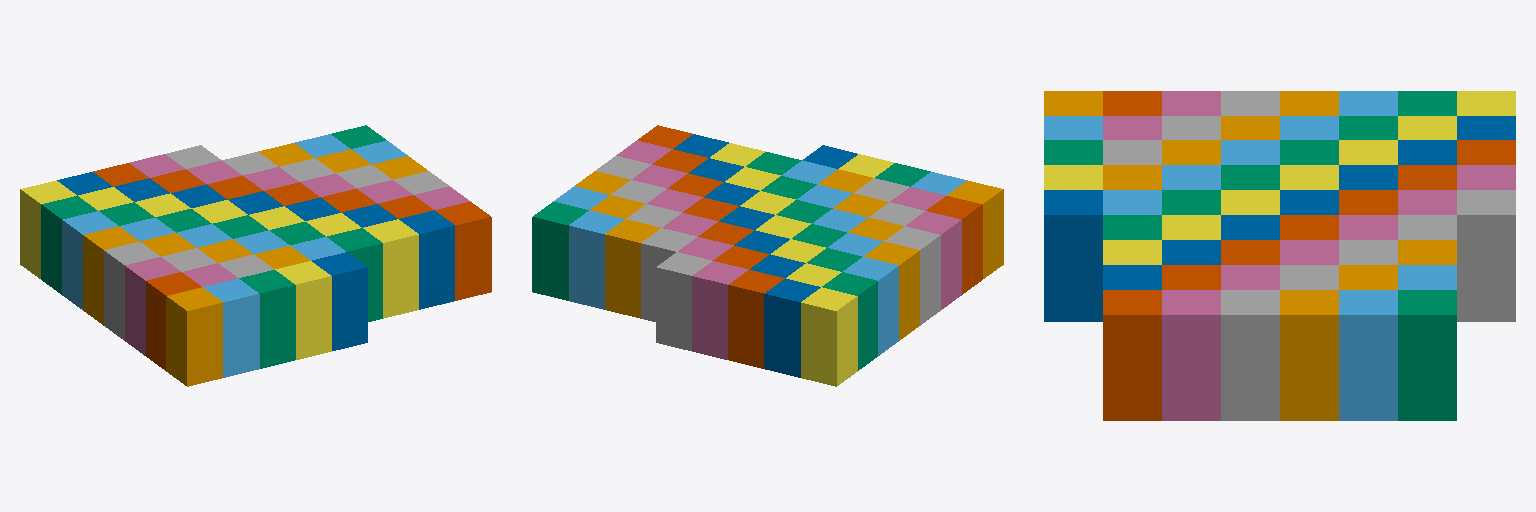
--- What the picture shows (computed from the rendered views, not written in the file) ---
3 views of the same robot in one strip: view 1: azimuth 30°, elevation 25°; view 2: azimuth 150°, elevation 25°; view 3: azimuth 270°, elevation 25° (orthographic).
Robot: snack — 64 links, 63 joints (63 fixed); root link box0; default pose: every joint at zero.
Links seen in each view (by area): view 1: box0, box13, box1, box3, box4, box12, box2, box11, box41, box14, box32, box50 (+28 smaller); view 2: box59, box58, box60, box57, box62, box63, box56, box61, box14, box23, box41, box0 (+28 smaller); view 3: box4, box63, box13, box22, box31, box40, box49, box58, box0, box2, box3, box5 (+28 smaller).
Boxes of the visible links, x1,y1,x2,y2 form: box0: [166, 287, 222, 386]; box13: [435, 201, 491, 300]; box1: [203, 278, 259, 377]; box3: [275, 261, 331, 359]; box4: [312, 252, 367, 350]; box12: [399, 210, 454, 309]; box2: [239, 270, 295, 368]; box11: [363, 219, 418, 318]; box41: [62, 211, 117, 309]; box14: [125, 257, 180, 355]; box32: [83, 226, 139, 325]; box50: [41, 196, 97, 294]; box59: [801, 287, 857, 386]; box58: [532, 201, 588, 300]; box60: [764, 278, 820, 377]; box57: [569, 210, 624, 309]; box62: [692, 261, 748, 359]; box63: [656, 252, 711, 350]; box56: [605, 219, 660, 318]; box61: [728, 270, 784, 368]; box14: [906, 211, 961, 309]; box23: [884, 226, 940, 325]; box41: [843, 257, 898, 355]; box0: [947, 180, 1003, 278]; box4: [1044, 190, 1102, 321]; box63: [1457, 190, 1515, 321]; box13: [1103, 290, 1161, 420]; box22: [1162, 290, 1220, 420]; box31: [1221, 290, 1279, 420]; box40: [1280, 290, 1338, 420]; box49: [1339, 290, 1397, 420]; box58: [1398, 290, 1456, 420]; box0: [1044, 91, 1102, 115]; box2: [1044, 140, 1102, 164]; box3: [1044, 165, 1102, 189]; box5: [1103, 91, 1161, 115].
Bounding box of the posed robot: 9 × 8 × 2 m (x, y, z).
Geometry: primitives only (box / cylinder / sphere), no mesh files.

robot.urdf — snack:
<robot name = "snack">
	<link name = "box0">
		<visual>
			<origin xyz="0.0 0.0 0.0"/>
			<geometry>
				<box size = "1 1 2"/>
			</geometry>
		</visual>
		<collision>
			<origin xyz="0.0 0.0 0.0"/>
			<geometry>
				<box size = "1 1 2"/>
			</geometry>
		</collision>
		<contact>
			<lateral_friction value = "0.3"/>
		</contact>
		<inertial>
			<mass value = "0.0046875"/>
			<inertia ixx="0.001953125" ixy="0.0" ixz="0.0" iyy="0.001953125" iyz="0.0" izz="0.0007812499999999999"/>
			<origin xyz="0.0 0.0 0.0"/>
		</inertial>
	</link>
	<link name = "box1">
		<visual>
			<origin xyz="1.0 0.0 0.0"/>
			<geometry>
				<box size = "1 1 2"/>
			</geometry>
		</visual>
		<collision>
			<origin xyz="1.0 0.0 0.0"/>
			<geometry>
				<box size = "1 1 2"/>
			</geometry>
		</collision>
		<contact>
			<lateral_friction value = "0.3"/>
		</contact>
		<inertial>
			<mass value = "0.0046875"/>
			<inertia ixx="0.001953125" ixy="0.0" ixz="0.0" iyy="0.001953125" iyz="0.0" izz="0.0007812499999999999"/>
			<origin xyz="1.0 0.0 0.0"/>
		</inertial>
	</link>
	<joint name = "joint1" type = "fixed">
		<parent link = "box0"/>
		<child link = "box1"/>
	</joint>
	<link name = "box2">
		<visual>
			<origin xyz="2.0 0.0 0.0"/>
			<geometry>
				<box size = "1 1 2"/>
			</geometry>
		</visual>
		<collision>
			<origin xyz="2.0 0.0 0.0"/>
			<geometry>
				<box size = "1 1 2"/>
			</geometry>
		</collision>
		<contact>
			<lateral_friction value = "0.3"/>
		</contact>
		<inertial>
			<mass value = "0.0046875"/>
			<inertia ixx="0.001953125" ixy="0.0" ixz="0.0" iyy="0.001953125" iyz="0.0" izz="0.0007812499999999999"/>
			<origin xyz="2.0 0.0 0.0"/>
		</inertial>
	</link>
	<joint name = "joint2" type = "fixed">
		<parent link = "box0"/>
		<child link = "box2"/>
	</joint>
	<link name = "box3">
		<visual>
			<origin xyz="3.0 0.0 0.0"/>
			<geometry>
				<box size = "1 1 2"/>
			</geometry>
		</visual>
		<collision>
			<origin xyz="3.0 0.0 0.0"/>
			<geometry>
				<box size = "1 1 2"/>
			</geometry>
		</collision>
		<contact>
			<lateral_friction value = "0.3"/>
		</contact>
		<inertial>
			<mass value = "0.0046875"/>
			<inertia ixx="0.001953125" ixy="0.0" ixz="0.0" iyy="0.001953125" iyz="0.0" izz="0.0007812499999999999"/>
			<origin xyz="3.0 0.0 0.0"/>
		</inertial>
	</link>
	<joint name = "joint3" type = "fixed">
		<parent link = "box0"/>
		<child link = "box3"/>
	</joint>
	<link name = "box4">
		<visual>
			<origin xyz="4.0 0.0 0.0"/>
			<geometry>
				<box size = "1 1 2"/>
			</geometry>
		</visual>
		<collision>
			<origin xyz="4.0 0.0 0.0"/>
			<geometry>
				<box size = "1 1 2"/>
			</geometry>
		</collision>
		<contact>
			<lateral_friction value = "0.3"/>
		</contact>
		<inertial>
			<mass value = "0.0046875"/>
			<inertia ixx="0.001953125" ixy="0.0" ixz="0.0" iyy="0.001953125" iyz="0.0" izz="0.0007812499999999999"/>
			<origin xyz="4.0 0.0 0.0"/>
		</inertial>
	</link>
	<joint name = "joint4" type = "fixed">
		<parent link = "box0"/>
		<child link = "box4"/>
	</joint>
	<link name = "box5">
		<visual>
			<origin xyz="0.0 1.0 0.0"/>
			<geometry>
				<box size = "1 1 2"/>
			</geometry>
		</visual>
		<collision>
			<origin xyz="0.0 1.0 0.0"/>
			<geometry>
				<box size = "1 1 2"/>
			</geometry>
		</collision>
		<contact>
			<lateral_friction value = "0.3"/>
		</contact>
		<inertial>
			<mass value = "0.0046875"/>
			<inertia ixx="0.001953125" ixy="0.0" ixz="0.0" iyy="0.001953125" iyz="0.0" izz="0.0007812499999999999"/>
			<origin xyz="0.0 1.0 0.0"/>
		</inertial>
	</link>
	<joint name = "joint5" type = "fixed">
		<parent link = "box0"/>
		<child link = "box5"/>
	</joint>
	<link name = "box6">
		<visual>
			<origin xyz="1.0 1.0 0.0"/>
			<geometry>
				<box size = "1 1 2"/>
			</geometry>
		</visual>
		<collision>
			<origin xyz="1.0 1.0 0.0"/>
			<geometry>
				<box size = "1 1 2"/>
			</geometry>
		</collision>
		<contact>
			<lateral_friction value = "0.3"/>
		</contact>
		<inertial>
			<mass value = "0.0046875"/>
			<inertia ixx="0.001953125" ixy="0.0" ixz="0.0" iyy="0.001953125" iyz="0.0" izz="0.0007812499999999999"/>
			<origin xyz="1.0 1.0 0.0"/>
		</inertial>
	</link>
	<joint name = "joint6" type = "fixed">
		<parent link = "box0"/>
		<child link = "box6"/>
	</joint>
	<link name = "box7">
		<visual>
			<origin xyz="2.0 1.0 0.0"/>
			<geometry>
				<box size = "1 1 2"/>
			</geometry>
		</visual>
		<collision>
			<origin xyz="2.0 1.0 0.0"/>
			<geometry>
				<box size = "1 1 2"/>
			</geometry>
		</collision>
		<contact>
			<lateral_friction value = "0.3"/>
		</contact>
		<inertial>
			<mass value = "0.0046875"/>
			<inertia ixx="0.001953125" ixy="0.0" ixz="0.0" iyy="0.001953125" iyz="0.0" izz="0.0007812499999999999"/>
			<origin xyz="2.0 1.0 0.0"/>
		</inertial>
	</link>
	<joint name = "joint7" type = "fixed">
		<parent link = "box0"/>
		<child link = "box7"/>
	</joint>
	<link name = "box8">
		<visual>
			<origin xyz="3.0 1.0 0.0"/>
			<geometry>
				<box size = "1 1 2"/>
			</geometry>
		</visual>
		<collision>
			<origin xyz="3.0 1.0 0.0"/>
			<geometry>
				<box size = "1 1 2"/>
			</geometry>
		</collision>
		<contact>
			<lateral_friction value = "0.3"/>
		</contact>
		<inertial>
			<mass value = "0.0046875"/>
			<inertia ixx="0.001953125" ixy="0.0" ixz="0.0" iyy="0.001953125" iyz="0.0" izz="0.0007812499999999999"/>
			<origin xyz="3.0 1.0 0.0"/>
		</inertial>
	</link>
	<joint name = "joint8" type = "fixed">
		<parent link = "box0"/>
		<child link = "box8"/>
	</joint>
	<link name = "box9">
		<visual>
			<origin xyz="4.0 1.0 0.0"/>
			<geometry>
				<box size = "1 1 2"/>
			</geometry>
		</visual>
		<collision>
			<origin xyz="4.0 1.0 0.0"/>
			<geometry>
				<box size = "1 1 2"/>
			</geometry>
		</collision>
		<contact>
			<lateral_friction value = "0.3"/>
		</contact>
		<inertial>
			<mass value = "0.0046875"/>
			<inertia ixx="0.001953125" ixy="0.0" ixz="0.0" iyy="0.001953125" iyz="0.0" izz="0.0007812499999999999"/>
			<origin xyz="4.0 1.0 0.0"/>
		</inertial>
	</link>
	<joint name = "joint9" type = "fixed">
		<parent link = "box0"/>
		<child link = "box9"/>
	</joint>
	<link name = "box10">
		<visual>
			<origin xyz="5.0 1.0 0.0"/>
			<geometry>
				<box size = "1 1 2"/>
			</geometry>
		</visual>
		<collision>
			<origin xyz="5.0 1.0 0.0"/>
			<geometry>
				<box size = "1 1 2"/>
			</geometry>
		</collision>
		<contact>
			<lateral_friction value = "0.3"/>
		</contact>
		<inertial>
			<mass value = "0.0046875"/>
			<inertia ixx="0.001953125" ixy="0.0" ixz="0.0" iyy="0.001953125" iyz="0.0" izz="0.0007812499999999999"/>
			<origin xyz="5.0 1.0 0.0"/>
		</inertial>
	</link>
	<joint name = "joint10" type = "fixed">
		<parent link = "box0"/>
		<child link = "box10"/>
	</joint>
	<link name = "box11">
		<visual>
			<origin xyz="6.0 1.0 0.0"/>
			<geometry>
				<box size = "1 1 2"/>
			</geometry>
		</visual>
		<collision>
			<origin xyz="6.0 1.0 0.0"/>
			<geometry>
				<box size = "1 1 2"/>
			</geometry>
		</collision>
		<contact>
			<lateral_friction value = "0.3"/>
		</contact>
		<inertial>
			<mass value = "0.0046875"/>
			<inertia ixx="0.001953125" ixy="0.0" ixz="0.0" iyy="0.001953125" iyz="0.0" izz="0.0007812499999999999"/>
			<origin xyz="6.0 1.0 0.0"/>
		</inertial>
	</link>
	<joint name = "joint11" type = "fixed">
		<parent link = "box0"/>
		<child link = "box11"/>
	</joint>
	<link name = "box12">
		<visual>
			<origin xyz="7.0 1.0 0.0"/>
			<geometry>
				<box size = "1 1 2"/>
			</geometry>
		</visual>
		<collision>
			<origin xyz="7.0 1.0 0.0"/>
			<geometry>
				<box size = "1 1 2"/>
			</geometry>
		</collision>
		<contact>
			<lateral_friction value = "0.3"/>
		</contact>
		<inertial>
			<mass value = "0.0046875"/>
			<inertia ixx="0.001953125" ixy="0.0" ixz="0.0" iyy="0.001953125" iyz="0.0" izz="0.0007812499999999999"/>
			<origin xyz="7.0 1.0 0.0"/>
		</inertial>
	</link>
	<joint name = "joint12" type = "fixed">
		<parent link = "box0"/>
		<child link = "box12"/>
	</joint>
	<link name = "box13">
		<visual>
			<origin xyz="8.0 1.0 0.0"/>
			<geometry>
				<box size = "1 1 2"/>
			</geometry>
		</visual>
		<collision>
			<origin xyz="8.0 1.0 0.0"/>
			<geometry>
				<box size = "1 1 2"/>
			</geometry>
		</collision>
		<contact>
			<lateral_friction value = "0.3"/>
		</contact>
		<inertial>
			<mass value = "0.0046875"/>
			<inertia ixx="0.001953125" ixy="0.0" ixz="0.0" iyy="0.001953125" iyz="0.0" izz="0.0007812499999999999"/>
			<origin xyz="8.0 1.0 0.0"/>
		</inertial>
	</link>
	<joint name = "joint13" type = "fixed">
		<parent link = "box0"/>
		<child link = "box13"/>
	</joint>
	<link name = "box14">
		<visual>
			<origin xyz="0.0 2.0 0.0"/>
			<geometry>
				<box size = "1 1 2"/>
			</geometry>
		</visual>
		<collision>
			<origin xyz="0.0 2.0 0.0"/>
			<geometry>
				<box size = "1 1 2"/>
			</geometry>
		</collision>
		<contact>
			<lateral_friction value = "0.3"/>
		</contact>
		<inertial>
			<mass value = "0.0046875"/>
			<inertia ixx="0.001953125" ixy="0.0" ixz="0.0" iyy="0.001953125" iyz="0.0" izz="0.0007812499999999999"/>
			<origin xyz="0.0 2.0 0.0"/>
		</inertial>
	</link>
	<joint name = "joint14" type = "fixed">
		<parent link = "box0"/>
		<child link = "box14"/>
	</joint>
	<link name = "box15">
		<visual>
			<origin xyz="1.0 2.0 0.0"/>
			<geometry>
				<box size = "1 1 2"/>
			</geometry>
		</visual>
		<collision>
			<origin xyz="1.0 2.0 0.0"/>
			<geometry>
				<box size = "1 1 2"/>
			</geometry>
		</collision>
		<contact>
			<lateral_friction value = "0.3"/>
		</contact>
		<inertial>
			<mass value = "0.0046875"/>
			<inertia ixx="0.001953125" ixy="0.0" ixz="0.0" iyy="0.001953125" iyz="0.0" izz="0.0007812499999999999"/>
			<origin xyz="1.0 2.0 0.0"/>
		</inertial>
	</link>
	<joint name = "joint15" type = "fixed">
		<parent link = "box0"/>
		<child link = "box15"/>
	</joint>
	<link name = "box16">
		<visual>
			<origin xyz="2.0 2.0 0.0"/>
			<geometry>
				<box size = "1 1 2"/>
			</geometry>
		</visual>
		<collision>
			<origin xyz="2.0 2.0 0.0"/>
			<geometry>
				<box size = "1 1 2"/>
			</geometry>
		</collision>
		<contact>
			<lateral_friction value = "0.3"/>
		</contact>
		<inertial>
			<mass value = "0.0046875"/>
			<inertia ixx="0.001953125" ixy="0.0" ixz="0.0" iyy="0.001953125" iyz="0.0" izz="0.0007812499999999999"/>
			<origin xyz="2.0 2.0 0.0"/>
		</inertial>
	</link>
	<joint name = "joint16" type = "fixed">
		<parent link = "box0"/>
		<child link = "box16"/>
	</joint>
	<link name = "box17">
		<visual>
			<origin xyz="3.0 2.0 0.0"/>
			<geometry>
				<box size = "1 1 2"/>
			</geometry>
		</visual>
		<collision>
			<origin xyz="3.0 2.0 0.0"/>
			<geometry>
				<box size = "1 1 2"/>
			</geometry>
		</collision>
		<contact>
			<lateral_friction value = "0.3"/>
		</contact>
		<inertial>
			<mass value = "0.0046875"/>
			<inertia ixx="0.001953125" ixy="0.0" ixz="0.0" iyy="0.001953125" iyz="0.0" izz="0.0007812499999999999"/>
			<origin xyz="3.0 2.0 0.0"/>
		</inertial>
	</link>
	<joint name = "joint17" type = "fixed">
		<parent link = "box0"/>
		<child link = "box17"/>
	</joint>
	<link name = "box18">
		<visual>
			<origin xyz="4.0 2.0 0.0"/>
			<geometry>
				<box size = "1 1 2"/>
			</geometry>
		</visual>
		<collision>
			<origin xyz="4.0 2.0 0.0"/>
			<geometry>
				<box size = "1 1 2"/>
			</geometry>
		</collision>
		<contact>
			<lateral_friction value = "0.3"/>
		</contact>
		<inertial>
			<mass value = "0.0046875"/>
			<inertia ixx="0.001953125" ixy="0.0" ixz="0.0" iyy="0.001953125" iyz="0.0" izz="0.0007812499999999999"/>
			<origin xyz="4.0 2.0 0.0"/>
		</inertial>
	</link>
	<joint name = "joint18" type = "fixed">
		<parent link = "box0"/>
		<child link = "box18"/>
	</joint>
	<link name = "box19">
		<visual>
			<origin xyz="5.0 2.0 0.0"/>
			<geometry>
				<box size = "1 1 2"/>
			</geometry>
		</visual>
		<collision>
			<origin xyz="5.0 2.0 0.0"/>
			<geometry>
				<box size = "1 1 2"/>
			</geometry>
		</collision>
		<contact>
			<lateral_friction value = "0.3"/>
		</contact>
		<inertial>
			<mass value = "0.0046875"/>
			<inertia ixx="0.001953125" ixy="0.0" ixz="0.0" iyy="0.001953125" iyz="0.0" izz="0.0007812499999999999"/>
			<origin xyz="5.0 2.0 0.0"/>
		</inertial>
	</link>
	<joint name = "joint19" type = "fixed">
		<parent link = "box0"/>
		<child link = "box19"/>
	</joint>
	<link name = "box20">
		<visual>
			<origin xyz="6.0 2.0 0.0"/>
			<geometry>
				<box size = "1 1 2"/>
			</geometry>
		</visual>
		<collision>
			<origin xyz="6.0 2.0 0.0"/>
			<geometry>
				<box size = "1 1 2"/>
			</geometry>
		</collision>
		<contact>
			<lateral_friction value = "0.3"/>
		</contact>
		<inertial>
			<mass value = "0.0046875"/>
			<inertia ixx="0.001953125" ixy="0.0" ixz="0.0" iyy="0.001953125" iyz="0.0" izz="0.0007812499999999999"/>
			<origin xyz="6.0 2.0 0.0"/>
		</inertial>
	</link>
	<joint name = "joint20" type = "fixed">
		<parent link = "box0"/>
		<child link = "box20"/>
	</joint>
	<link name = "box21">
		<visual>
			<origin xyz="7.0 2.0 0.0"/>
			<geometry>
				<box size = "1 1 2"/>
			</geometry>
		</visual>
		<collision>
			<origin xyz="7.0 2.0 0.0"/>
			<geometry>
				<box size = "1 1 2"/>
			</geometry>
		</collision>
		<contact>
			<lateral_friction value = "0.3"/>
		</contact>
		<inertial>
			<mass value = "0.0046875"/>
			<inertia ixx="0.001953125" ixy="0.0" ixz="0.0" iyy="0.001953125" iyz="0.0" izz="0.0007812499999999999"/>
			<origin xyz="7.0 2.0 0.0"/>
		</inertial>
	</link>
	<joint name = "joint21" type = "fixed">
		<parent link = "box0"/>
		<child link = "box21"/>
	</joint>
	<link name = "box22">
		<visual>
			<origin xyz="8.0 2.0 0.0"/>
			<geometry>
				<box size = "1 1 2"/>
			</geometry>
		</visual>
		<collision>
			<origin xyz="8.0 2.0 0.0"/>
			<geometry>
				<box size = "1 1 2"/>
			</geometry>
		</collision>
		<contact>
			<lateral_friction value = "0.3"/>
		</contact>
		<inertial>
			<mass value = "0.0046875"/>
			<inertia ixx="0.001953125" ixy="0.0" ixz="0.0" iyy="0.001953125" iyz="0.0" izz="0.0007812499999999999"/>
			<origin xyz="8.0 2.0 0.0"/>
		</inertial>
	</link>
	<joint name = "joint22" type = "fixed">
		<parent link = "box0"/>
		<child link = "box22"/>
	</joint>
	<link name = "box23">
		<visual>
			<origin xyz="0.0 3.0 0.0"/>
			<geometry>
				<box size = "1 1 2"/>
			</geometry>
		</visual>
		<collision>
			<origin xyz="0.0 3.0 0.0"/>
			<geometry>
				<box size = "1 1 2"/>
			</geometry>
		</collision>
		<contact>
			<lateral_friction value = "0.3"/>
		</contact>
		<inertial>
			<mass value = "0.0046875"/>
			<inertia ixx="0.001953125" ixy="0.0" ixz="0.0" iyy="0.001953125" iyz="0.0" izz="0.0007812499999999999"/>
			<origin xyz="0.0 3.0 0.0"/>
		</inertial>
	</link>
	<joint name = "joint23" type = "fixed">
		<parent link = "box0"/>
		<child link = "box23"/>
	</joint>
	<link name = "box24">
		<visual>
			<origin xyz="1.0 3.0 0.0"/>
			<geometry>
				<box size = "1 1 2"/>
			</geometry>
		</visual>
		<collision>
			<origin xyz="1.0 3.0 0.0"/>
			<geometry>
				<box size = "1 1 2"/>
			</geometry>
		</collision>
		<contact>
			<lateral_friction value = "0.3"/>
		</contact>
		<inertial>
			<mass value = "0.0046875"/>
			<inertia ixx="0.001953125" ixy="0.0" ixz="0.0" iyy="0.001953125" iyz="0.0" izz="0.0007812499999999999"/>
			<origin xyz="1.0 3.0 0.0"/>
		</inertial>
	</link>
	<joint name = "joint24" type = "fixed">
		<parent link = "box0"/>
		<child link = "box24"/>
	</joint>
	<link name = "box25">
		<visual>
			<origin xyz="2.0 3.0 0.0"/>
			<geometry>
				<box size = "1 1 2"/>
			</geometry>
		</visual>
		<collision>
			<origin xyz="2.0 3.0 0.0"/>
			<geometry>
				<box size = "1 1 2"/>
			</geometry>
		</collision>
		<contact>
			<lateral_friction value = "0.3"/>
		</contact>
		<inertial>
			<mass value = "0.0046875"/>
			<inertia ixx="0.001953125" ixy="0.0" ixz="0.0" iyy="0.001953125" iyz="0.0" izz="0.0007812499999999999"/>
			<origin xyz="2.0 3.0 0.0"/>
		</inertial>
	</link>
	<joint name = "joint25" type = "fixed">
		<parent link = "box0"/>
		<child link = "box25"/>
	</joint>
	<link name = "box26">
		<visual>
			<origin xyz="3.0 3.0 0.0"/>
			<geometry>
				<box size = "1 1 2"/>
			</geometry>
		</visual>
		<collision>
			<origin xyz="3.0 3.0 0.0"/>
			<geometry>
				<box size = "1 1 2"/>
			</geometry>
		</collision>
		<contact>
			<lateral_friction value = "0.3"/>
		</contact>
		<inertial>
			<mass value = "0.0046875"/>
			<inertia ixx="0.001953125" ixy="0.0" ixz="0.0" iyy="0.001953125" iyz="0.0" izz="0.0007812499999999999"/>
			<origin xyz="3.0 3.0 0.0"/>
		</inertial>
	</link>
	<joint name = "joint26" type = "fixed">
		<parent link = "box0"/>
		<child link = "box26"/>
	</joint>
	<link name = "box27">
		<visual>
			<origin xyz="4.0 3.0 0.0"/>
			<geometry>
				<box size = "1 1 2"/>
			</geometry>
		</visual>
		<collision>
			<origin xyz="4.0 3.0 0.0"/>
			<geometry>
				<box size = "1 1 2"/>
			</geometry>
		</collision>
		<contact>
			<lateral_friction value = "0.3"/>
		</contact>
		<inertial>
			<mass value = "0.0046875"/>
			<inertia ixx="0.001953125" ixy="0.0" ixz="0.0" iyy="0.001953125" iyz="0.0" izz="0.0007812499999999999"/>
			<origin xyz="4.0 3.0 0.0"/>
		</inertial>
	</link>
	<joint name = "joint27" type = "fixed">
		<parent link = "box0"/>
		<child link = "box27"/>
	</joint>
	<link name = "box28">
		<visual>
			<origin xyz="5.0 3.0 0.0"/>
			<geometry>
				<box size = "1 1 2"/>
			</geometry>
		</visual>
		<collision>
			<origin xyz="5.0 3.0 0.0"/>
			<geometry>
				<box size = "1 1 2"/>
			</geometry>
		</collision>
		<contact>
			<lateral_friction value = "0.3"/>
		</contact>
		<inertial>
			<mass value = "0.0046875"/>
			<inertia ixx="0.001953125" ixy="0.0" ixz="0.0" iyy="0.001953125" iyz="0.0" izz="0.0007812499999999999"/>
			<origin xyz="5.0 3.0 0.0"/>
		</inertial>
	</link>
	<joint name = "joint28" type = "fixed">
		<parent link = "box0"/>
		<child link = "box28"/>
	</joint>
	<link name = "box29">
		<visual>
			<origin xyz="6.0 3.0 0.0"/>
			<geometry>
				<box size = "1 1 2"/>
			</geometry>
		</visual>
		<collision>
			<origin xyz="6.0 3.0 0.0"/>
			<geometry>
				<box size = "1 1 2"/>
			</geometry>
		</collision>
		<contact>
			<lateral_friction value = "0.3"/>
		</contact>
		<inertial>
			<mass value = "0.0046875"/>
			<inertia ixx="0.001953125" ixy="0.0" ixz="0.0" iyy="0.001953125" iyz="0.0" izz="0.0007812499999999999"/>
			<origin xyz="6.0 3.0 0.0"/>
		</inertial>
	</link>
	<joint name = "joint29" type = "fixed">
		<parent link = "box0"/>
		<child link = "box29"/>
	</joint>
	<link name = "box30">
		<visual>
			<origin xyz="7.0 3.0 0.0"/>
			<geometry>
				<box size = "1 1 2"/>
			</geometry>
		</visual>
		<collision>
			<origin xyz="7.0 3.0 0.0"/>
			<geometry>
				<box size = "1 1 2"/>
			</geometry>
		</collision>
		<contact>
			<lateral_friction value = "0.3"/>
		</contact>
		<inertial>
			<mass value = "0.0046875"/>
			<inertia ixx="0.001953125" ixy="0.0" ixz="0.0" iyy="0.001953125" iyz="0.0" izz="0.0007812499999999999"/>
			<origin xyz="7.0 3.0 0.0"/>
		</inertial>
	</link>
	<joint name = "joint30" type = "fixed">
		<parent link = "box0"/>
		<child link = "box30"/>
	</joint>
	<link name = "box31">
		<visual>
			<origin xyz="8.0 3.0 0.0"/>
			<geometry>
				<box size = "1 1 2"/>
			</geometry>
		</visual>
		<collision>
			<origin xyz="8.0 3.0 0.0"/>
			<geometry>
				<box size = "1 1 2"/>
			</geometry>
		</collision>
		<contact>
			<lateral_friction value = "0.3"/>
		</contact>
		<inertial>
			<mass value = "0.0046875"/>
			<inertia ixx="0.001953125" ixy="0.0" ixz="0.0" iyy="0.001953125" iyz="0.0" izz="0.0007812499999999999"/>
			<origin xyz="8.0 3.0 0.0"/>
		</inertial>
	</link>
	<joint name = "joint31" type = "fixed">
		<parent link = "box0"/>
		<child link = "box31"/>
	</joint>
	<link name = "box32">
		<visual>
			<origin xyz="0.0 4.0 0.0"/>
			<geometry>
				<box size = "1 1 2"/>
			</geometry>
		</visual>
		<collision>
			<origin xyz="0.0 4.0 0.0"/>
			<geometry>
				<box size = "1 1 2"/>
			</geometry>
		</collision>
		<contact>
			<lateral_friction value = "0.3"/>
		</contact>
		<inertial>
			<mass value = "0.0046875"/>
			<inertia ixx="0.001953125" ixy="0.0" ixz="0.0" iyy="0.001953125" iyz="0.0" izz="0.0007812499999999999"/>
			<origin xyz="0.0 4.0 0.0"/>
		</inertial>
	</link>
	<joint name = "joint32" type = "fixed">
		<parent link = "box0"/>
		<child link = "box32"/>
	</joint>
	<link name = "box33">
		<visual>
			<origin xyz="1.0 4.0 0.0"/>
			<geometry>
				<box size = "1 1 2"/>
			</geometry>
		</visual>
		<collision>
			<origin xyz="1.0 4.0 0.0"/>
			<geometry>
				<box size = "1 1 2"/>
			</geometry>
		</collision>
		<contact>
			<lateral_friction value = "0.3"/>
		</contact>
		<inertial>
			<mass value = "0.0046875"/>
			<inertia ixx="0.001953125" ixy="0.0" ixz="0.0" iyy="0.001953125" iyz="0.0" izz="0.0007812499999999999"/>
			<origin xyz="1.0 4.0 0.0"/>
		</inertial>
	</link>
	<joint name = "joint33" type = "fixed">
		<parent link = "box0"/>
		<child link = "box33"/>
	</joint>
	<link name = "box34">
		<visual>
			<origin xyz="2.0 4.0 0.0"/>
			<geometry>
				<box size = "1 1 2"/>
			</geometry>
		</visual>
		<collision>
			<origin xyz="2.0 4.0 0.0"/>
			<geometry>
				<box size = "1 1 2"/>
			</geometry>
		</collision>
		<contact>
			<lateral_friction value = "0.3"/>
		</contact>
		<inertial>
			<mass value = "0.0046875"/>
			<inertia ixx="0.001953125" ixy="0.0" ixz="0.0" iyy="0.001953125" iyz="0.0" izz="0.0007812499999999999"/>
			<origin xyz="2.0 4.0 0.0"/>
		</inertial>
	</link>
	<joint name = "joint34" type = "fixed">
		<parent link = "box0"/>
		<child link = "box34"/>
	</joint>
	<link name = "box35">
		<visual>
			<origin xyz="3.0 4.0 0.0"/>
			<geometry>
				<box size = "1 1 2"/>
			</geometry>
		</visual>
		<collision>
			<origin xyz="3.0 4.0 0.0"/>
			<geometry>
				<box size = "1 1 2"/>
			</geometry>
		</collision>
		<contact>
			<lateral_friction value = "0.3"/>
		</contact>
		<inertial>
			<mass value = "0.0046875"/>
			<inertia ixx="0.001953125" ixy="0.0" ixz="0.0" iyy="0.001953125" iyz="0.0" izz="0.0007812499999999999"/>
			<origin xyz="3.0 4.0 0.0"/>
		</inertial>
	</link>
	<joint name = "joint35" type = "fixed">
		<parent link = "box0"/>
		<child link = "box35"/>
	</joint>
	<link name = "box36">
		<visual>
			<origin xyz="4.0 4.0 0.0"/>
			<geometry>
				<box size = "1 1 2"/>
			</geometry>
		</visual>
		<collision>
			<origin xyz="4.0 4.0 0.0"/>
			<geometry>
				<box size = "1 1 2"/>
			</geometry>
		</collision>
		<contact>
			<lateral_friction value = "0.3"/>
		</contact>
		<inertial>
			<mass value = "0.0046875"/>
			<inertia ixx="0.001953125" ixy="0.0" ixz="0.0" iyy="0.001953125" iyz="0.0" izz="0.0007812499999999999"/>
			<origin xyz="4.0 4.0 0.0"/>
		</inertial>
	</link>
	<joint name = "joint36" type = "fixed">
		<parent link = "box0"/>
		<child link = "box36"/>
	</joint>
	<link name = "box37">
		<visual>
			<origin xyz="5.0 4.0 0.0"/>
			<geometry>
				<box size = "1 1 2"/>
			</geometry>
		</visual>
		<collision>
			<origin xyz="5.0 4.0 0.0"/>
			<geometry>
				<box size = "1 1 2"/>
			</geometry>
		</collision>
		<contact>
			<lateral_friction value = "0.3"/>
		</contact>
		<inertial>
			<mass value = "0.0046875"/>
			<inertia ixx="0.001953125" ixy="0.0" ixz="0.0" iyy="0.001953125" iyz="0.0" izz="0.0007812499999999999"/>
			<origin xyz="5.0 4.0 0.0"/>
		</inertial>
	</link>
	<joint name = "joint37" type = "fixed">
		<parent link = "box0"/>
		<child link = "box37"/>
	</joint>
	<link name = "box38">
		<visual>
			<origin xyz="6.0 4.0 0.0"/>
			<geometry>
				<box size = "1 1 2"/>
			</geometry>
		</visual>
		<collision>
			<origin xyz="6.0 4.0 0.0"/>
			<geometry>
				<box size = "1 1 2"/>
			</geometry>
		</collision>
		<contact>
			<lateral_friction value = "0.3"/>
		</contact>
		<inertial>
			<mass value = "0.0046875"/>
			<inertia ixx="0.001953125" ixy="0.0" ixz="0.0" iyy="0.001953125" iyz="0.0" izz="0.0007812499999999999"/>
			<origin xyz="6.0 4.0 0.0"/>
		</inertial>
	</link>
	<joint name = "joint38" type = "fixed">
		<parent link = "box0"/>
		<child link = "box38"/>
	</joint>
	<link name = "box39">
		<visual>
			<origin xyz="7.0 4.0 0.0"/>
			<geometry>
				<box size = "1 1 2"/>
			</geometry>
		</visual>
		<collision>
			<origin xyz="7.0 4.0 0.0"/>
			<geometry>
				<box size = "1 1 2"/>
			</geometry>
		</collision>
		<contact>
			<lateral_friction value = "0.3"/>
		</contact>
		<inertial>
			<mass value = "0.0046875"/>
			<inertia ixx="0.001953125" ixy="0.0" ixz="0.0" iyy="0.001953125" iyz="0.0" izz="0.0007812499999999999"/>
			<origin xyz="7.0 4.0 0.0"/>
		</inertial>
	</link>
	<joint name = "joint39" type = "fixed">
		<parent link = "box0"/>
		<child link = "box39"/>
	</joint>
	<link name = "box40">
		<visual>
			<origin xyz="8.0 4.0 0.0"/>
			<geometry>
				<box size = "1 1 2"/>
			</geometry>
		</visual>
		<collision>
			<origin xyz="8.0 4.0 0.0"/>
			<geometry>
				<box size = "1 1 2"/>
			</geometry>
		</collision>
		<contact>
			<lateral_friction value = "0.3"/>
		</contact>
		<inertial>
			<mass value = "0.0046875"/>
			<inertia ixx="0.001953125" ixy="0.0" ixz="0.0" iyy="0.001953125" iyz="0.0" izz="0.0007812499999999999"/>
			<origin xyz="8.0 4.0 0.0"/>
		</inertial>
	</link>
	<joint name = "joint40" type = "fixed">
		<parent link = "box0"/>
		<child link = "box40"/>
	</joint>
	<link name = "box41">
		<visual>
			<origin xyz="0.0 5.0 0.0"/>
			<geometry>
				<box size = "1 1 2"/>
			</geometry>
		</visual>
		<collision>
			<origin xyz="0.0 5.0 0.0"/>
			<geometry>
				<box size = "1 1 2"/>
			</geometry>
		</collision>
		<contact>
			<lateral_friction value = "0.3"/>
		</contact>
		<inertial>
			<mass value = "0.0046875"/>
			<inertia ixx="0.001953125" ixy="0.0" ixz="0.0" iyy="0.001953125" iyz="0.0" izz="0.0007812499999999999"/>
			<origin xyz="0.0 5.0 0.0"/>
		</inertial>
	</link>
	<joint name = "joint41" type = "fixed">
		<parent link = "box0"/>
		<child link = "box41"/>
	</joint>
	<link name = "box42">
		<visual>
			<origin xyz="1.0 5.0 0.0"/>
			<geometry>
				<box size = "1 1 2"/>
			</geometry>
		</visual>
		<collision>
			<origin xyz="1.0 5.0 0.0"/>
			<geometry>
				<box size = "1 1 2"/>
			</geometry>
		</collision>
		<contact>
			<lateral_friction value = "0.3"/>
		</contact>
		<inertial>
			<mass value = "0.0046875"/>
			<inertia ixx="0.001953125" ixy="0.0" ixz="0.0" iyy="0.001953125" iyz="0.0" izz="0.0007812499999999999"/>
			<origin xyz="1.0 5.0 0.0"/>
		</inertial>
	</link>
	<joint name = "joint42" type = "fixed">
		<parent link = "box0"/>
		<child link = "box42"/>
	</joint>
	<link name = "box43">
		<visual>
			<origin xyz="2.0 5.0 0.0"/>
			<geometry>
				<box size = "1 1 2"/>
			</geometry>
		</visual>
		<collision>
			<origin xyz="2.0 5.0 0.0"/>
			<geometry>
				<box size = "1 1 2"/>
			</geometry>
		</collision>
		<contact>
			<lateral_friction value = "0.3"/>
		</contact>
		<inertial>
			<mass value = "0.0046875"/>
			<inertia ixx="0.001953125" ixy="0.0" ixz="0.0" iyy="0.001953125" iyz="0.0" izz="0.0007812499999999999"/>
			<origin xyz="2.0 5.0 0.0"/>
		</inertial>
	</link>
	<joint name = "joint43" type = "fixed">
		<parent link = "box0"/>
		<child link = "box43"/>
	</joint>
	<link name = "box44">
		<visual>
			<origin xyz="3.0 5.0 0.0"/>
			<geometry>
				<box size = "1 1 2"/>
			</geometry>
		</visual>
		<collision>
			<origin xyz="3.0 5.0 0.0"/>
			<geometry>
				<box size = "1 1 2"/>
			</geometry>
		</collision>
		<contact>
			<lateral_friction value = "0.3"/>
		</contact>
		<inertial>
			<mass value = "0.0046875"/>
			<inertia ixx="0.001953125" ixy="0.0" ixz="0.0" iyy="0.001953125" iyz="0.0" izz="0.0007812499999999999"/>
			<origin xyz="3.0 5.0 0.0"/>
		</inertial>
	</link>
	<joint name = "joint44" type = "fixed">
		<parent link = "box0"/>
		<child link = "box44"/>
	</joint>
	<link name = "box45">
		<visual>
			<origin xyz="4.0 5.0 0.0"/>
			<geometry>
				<box size = "1 1 2"/>
			</geometry>
		</visual>
		<collision>
			<origin xyz="4.0 5.0 0.0"/>
			<geometry>
				<box size = "1 1 2"/>
			</geometry>
		</collision>
		<contact>
			<lateral_friction value = "0.3"/>
		</contact>
		<inertial>
			<mass value = "0.0046875"/>
			<inertia ixx="0.001953125" ixy="0.0" ixz="0.0" iyy="0.001953125" iyz="0.0" izz="0.0007812499999999999"/>
			<origin xyz="4.0 5.0 0.0"/>
		</inertial>
	</link>
	<joint name = "joint45" type = "fixed">
		<parent link = "box0"/>
		<child link = "box45"/>
	</joint>
	<link name = "box46">
		<visual>
			<origin xyz="5.0 5.0 0.0"/>
			<geometry>
				<box size = "1 1 2"/>
			</geometry>
		</visual>
		<collision>
			<origin xyz="5.0 5.0 0.0"/>
			<geometry>
				<box size = "1 1 2"/>
			</geometry>
		</collision>
		<contact>
			<lateral_friction value = "0.3"/>
		</contact>
		<inertial>
			<mass value = "0.0046875"/>
			<inertia ixx="0.001953125" ixy="0.0" ixz="0.0" iyy="0.001953125" iyz="0.0" izz="0.0007812499999999999"/>
			<origin xyz="5.0 5.0 0.0"/>
		</inertial>
	</link>
	<joint name = "joint46" type = "fixed">
		<parent link = "box0"/>
		<child link = "box46"/>
	</joint>
	<link name = "box47">
		<visual>
			<origin xyz="6.0 5.0 0.0"/>
			<geometry>
				<box size = "1 1 2"/>
			</geometry>
		</visual>
		<collision>
			<origin xyz="6.0 5.0 0.0"/>
			<geometry>
				<box size = "1 1 2"/>
			</geometry>
		</collision>
		<contact>
			<lateral_friction value = "0.3"/>
		</contact>
		<inertial>
			<mass value = "0.0046875"/>
			<inertia ixx="0.001953125" ixy="0.0" ixz="0.0" iyy="0.001953125" iyz="0.0" izz="0.0007812499999999999"/>
			<origin xyz="6.0 5.0 0.0"/>
		</inertial>
	</link>
	<joint name = "joint47" type = "fixed">
		<parent link = "box0"/>
		<child link = "box47"/>
	</joint>
	<link name = "box48">
		<visual>
			<origin xyz="7.0 5.0 0.0"/>
			<geometry>
				<box size = "1 1 2"/>
			</geometry>
		</visual>
		<collision>
			<origin xyz="7.0 5.0 0.0"/>
			<geometry>
				<box size = "1 1 2"/>
			</geometry>
		</collision>
		<contact>
			<lateral_friction value = "0.3"/>
		</contact>
		<inertial>
			<mass value = "0.0046875"/>
			<inertia ixx="0.001953125" ixy="0.0" ixz="0.0" iyy="0.001953125" iyz="0.0" izz="0.0007812499999999999"/>
			<origin xyz="7.0 5.0 0.0"/>
		</inertial>
	</link>
	<joint name = "joint48" type = "fixed">
		<parent link = "box0"/>
		<child link = "box48"/>
	</joint>
	<link name = "box49">
		<visual>
			<origin xyz="8.0 5.0 0.0"/>
			<geometry>
				<box size = "1 1 2"/>
			</geometry>
		</visual>
		<collision>
			<origin xyz="8.0 5.0 0.0"/>
			<geometry>
				<box size = "1 1 2"/>
			</geometry>
		</collision>
		<contact>
			<lateral_friction value = "0.3"/>
		</contact>
		<inertial>
			<mass value = "0.0046875"/>
			<inertia ixx="0.001953125" ixy="0.0" ixz="0.0" iyy="0.001953125" iyz="0.0" izz="0.0007812499999999999"/>
			<origin xyz="8.0 5.0 0.0"/>
		</inertial>
	</link>
	<joint name = "joint49" type = "fixed">
		<parent link = "box0"/>
		<child link = "box49"/>
	</joint>
	<link name = "box50">
		<visual>
			<origin xyz="0.0 6.0 0.0"/>
			<geometry>
				<box size = "1 1 2"/>
			</geometry>
		</visual>
		<collision>
			<origin xyz="0.0 6.0 0.0"/>
			<geometry>
				<box size = "1 1 2"/>
			</geometry>
		</collision>
		<contact>
			<lateral_friction value = "0.3"/>
		</contact>
		<inertial>
			<mass value = "0.0046875"/>
			<inertia ixx="0.001953125" ixy="0.0" ixz="0.0" iyy="0.001953125" iyz="0.0" izz="0.0007812499999999999"/>
			<origin xyz="0.0 6.0 0.0"/>
		</inertial>
	</link>
	<joint name = "joint50" type = "fixed">
		<parent link = "box0"/>
		<child link = "box50"/>
	</joint>
	<link name = "box51">
		<visual>
			<origin xyz="1.0 6.0 0.0"/>
			<geometry>
				<box size = "1 1 2"/>
			</geometry>
		</visual>
		<collision>
			<origin xyz="1.0 6.0 0.0"/>
			<geometry>
				<box size = "1 1 2"/>
			</geometry>
		</collision>
		<contact>
			<lateral_friction value = "0.3"/>
		</contact>
		<inertial>
			<mass value = "0.0046875"/>
			<inertia ixx="0.001953125" ixy="0.0" ixz="0.0" iyy="0.001953125" iyz="0.0" izz="0.0007812499999999999"/>
			<origin xyz="1.0 6.0 0.0"/>
		</inertial>
	</link>
	<joint name = "joint51" type = "fixed">
		<parent link = "box0"/>
		<child link = "box51"/>
	</joint>
	<link name = "box52">
		<visual>
			<origin xyz="2.0 6.0 0.0"/>
			<geometry>
				<box size = "1 1 2"/>
			</geometry>
		</visual>
		<collision>
			<origin xyz="2.0 6.0 0.0"/>
			<geometry>
				<box size = "1 1 2"/>
			</geometry>
		</collision>
		<contact>
			<lateral_friction value = "0.3"/>
		</contact>
		<inertial>
			<mass value = "0.0046875"/>
			<inertia ixx="0.001953125" ixy="0.0" ixz="0.0" iyy="0.001953125" iyz="0.0" izz="0.0007812499999999999"/>
			<origin xyz="2.0 6.0 0.0"/>
		</inertial>
	</link>
	<joint name = "joint52" type = "fixed">
		<parent link = "box0"/>
		<child link = "box52"/>
	</joint>
	<link name = "box53">
		<visual>
			<origin xyz="3.0 6.0 0.0"/>
			<geometry>
				<box size = "1 1 2"/>
			</geometry>
		</visual>
		<collision>
			<origin xyz="3.0 6.0 0.0"/>
			<geometry>
				<box size = "1 1 2"/>
			</geometry>
		</collision>
		<contact>
			<lateral_friction value = "0.3"/>
		</contact>
		<inertial>
			<mass value = "0.0046875"/>
			<inertia ixx="0.001953125" ixy="0.0" ixz="0.0" iyy="0.001953125" iyz="0.0" izz="0.0007812499999999999"/>
			<origin xyz="3.0 6.0 0.0"/>
		</inertial>
	</link>
	<joint name = "joint53" type = "fixed">
		<parent link = "box0"/>
		<child link = "box53"/>
	</joint>
	<link name = "box54">
		<visual>
			<origin xyz="4.0 6.0 0.0"/>
			<geometry>
				<box size = "1 1 2"/>
			</geometry>
		</visual>
		<collision>
			<origin xyz="4.0 6.0 0.0"/>
			<geometry>
				<box size = "1 1 2"/>
			</geometry>
		</collision>
		<contact>
			<lateral_friction value = "0.3"/>
		</contact>
		<inertial>
			<mass value = "0.0046875"/>
			<inertia ixx="0.001953125" ixy="0.0" ixz="0.0" iyy="0.001953125" iyz="0.0" izz="0.0007812499999999999"/>
			<origin xyz="4.0 6.0 0.0"/>
		</inertial>
	</link>
	<joint name = "joint54" type = "fixed">
		<parent link = "box0"/>
		<child link = "box54"/>
	</joint>
	<link name = "box55">
		<visual>
			<origin xyz="5.0 6.0 0.0"/>
			<geometry>
				<box size = "1 1 2"/>
			</geometry>
		</visual>
		<collision>
			<origin xyz="5.0 6.0 0.0"/>
			<geometry>
				<box size = "1 1 2"/>
			</geometry>
		</collision>
		<contact>
			<lateral_friction value = "0.3"/>
		</contact>
		<inertial>
			<mass value = "0.0046875"/>
			<inertia ixx="0.001953125" ixy="0.0" ixz="0.0" iyy="0.001953125" iyz="0.0" izz="0.0007812499999999999"/>
			<origin xyz="5.0 6.0 0.0"/>
		</inertial>
	</link>
	<joint name = "joint55" type = "fixed">
		<parent link = "box0"/>
		<child link = "box55"/>
	</joint>
	<link name = "box56">
		<visual>
			<origin xyz="6.0 6.0 0.0"/>
			<geometry>
				<box size = "1 1 2"/>
			</geometry>
		</visual>
		<collision>
			<origin xyz="6.0 6.0 0.0"/>
			<geometry>
				<box size = "1 1 2"/>
			</geometry>
		</collision>
		<contact>
			<lateral_friction value = "0.3"/>
		</contact>
		<inertial>
			<mass value = "0.0046875"/>
			<inertia ixx="0.001953125" ixy="0.0" ixz="0.0" iyy="0.001953125" iyz="0.0" izz="0.0007812499999999999"/>
			<origin xyz="6.0 6.0 0.0"/>
		</inertial>
	</link>
	<joint name = "joint56" type = "fixed">
		<parent link = "box0"/>
		<child link = "box56"/>
	</joint>
	<link name = "box57">
		<visual>
			<origin xyz="7.0 6.0 0.0"/>
			<geometry>
				<box size = "1 1 2"/>
			</geometry>
		</visual>
		<collision>
			<origin xyz="7.0 6.0 0.0"/>
			<geometry>
				<box size = "1 1 2"/>
			</geometry>
		</collision>
		<contact>
			<lateral_friction value = "0.3"/>
		</contact>
		<inertial>
			<mass value = "0.0046875"/>
			<inertia ixx="0.001953125" ixy="0.0" ixz="0.0" iyy="0.001953125" iyz="0.0" izz="0.0007812499999999999"/>
			<origin xyz="7.0 6.0 0.0"/>
		</inertial>
	</link>
	<joint name = "joint57" type = "fixed">
		<parent link = "box0"/>
		<child link = "box57"/>
	</joint>
	<link name = "box58">
		<visual>
			<origin xyz="8.0 6.0 0.0"/>
			<geometry>
				<box size = "1 1 2"/>
			</geometry>
		</visual>
		<collision>
			<origin xyz="8.0 6.0 0.0"/>
			<geometry>
				<box size = "1 1 2"/>
			</geometry>
		</collision>
		<contact>
			<lateral_friction value = "0.3"/>
		</contact>
		<inertial>
			<mass value = "0.0046875"/>
			<inertia ixx="0.001953125" ixy="0.0" ixz="0.0" iyy="0.001953125" iyz="0.0" izz="0.0007812499999999999"/>
			<origin xyz="8.0 6.0 0.0"/>
		</inertial>
	</link>
	<joint name = "joint58" type = "fixed">
		<parent link = "box0"/>
		<child link = "box58"/>
	</joint>
	<link name = "box59">
		<visual>
			<origin xyz="0.0 7.0 0.0"/>
			<geometry>
				<box size = "1 1 2"/>
			</geometry>
		</visual>
		<collision>
			<origin xyz="0.0 7.0 0.0"/>
			<geometry>
				<box size = "1 1 2"/>
			</geometry>
		</collision>
		<contact>
			<lateral_friction value = "0.3"/>
		</contact>
		<inertial>
			<mass value = "0.0046875"/>
			<inertia ixx="0.001953125" ixy="0.0" ixz="0.0" iyy="0.001953125" iyz="0.0" izz="0.0007812499999999999"/>
			<origin xyz="0.0 7.0 0.0"/>
		</inertial>
	</link>
	<joint name = "joint59" type = "fixed">
		<parent link = "box0"/>
		<child link = "box59"/>
	</joint>
	<link name = "box60">
		<visual>
			<origin xyz="1.0 7.0 0.0"/>
			<geometry>
				<box size = "1 1 2"/>
			</geometry>
		</visual>
		<collision>
			<origin xyz="1.0 7.0 0.0"/>
			<geometry>
				<box size = "1 1 2"/>
			</geometry>
		</collision>
		<contact>
			<lateral_friction value = "0.3"/>
		</contact>
		<inertial>
			<mass value = "0.0046875"/>
			<inertia ixx="0.001953125" ixy="0.0" ixz="0.0" iyy="0.001953125" iyz="0.0" izz="0.0007812499999999999"/>
			<origin xyz="1.0 7.0 0.0"/>
		</inertial>
	</link>
	<joint name = "joint60" type = "fixed">
		<parent link = "box0"/>
		<child link = "box60"/>
	</joint>
	<link name = "box61">
		<visual>
			<origin xyz="2.0 7.0 0.0"/>
			<geometry>
				<box size = "1 1 2"/>
			</geometry>
		</visual>
		<collision>
			<origin xyz="2.0 7.0 0.0"/>
			<geometry>
				<box size = "1 1 2"/>
			</geometry>
		</collision>
		<contact>
			<lateral_friction value = "0.3"/>
		</contact>
		<inertial>
			<mass value = "0.0046875"/>
			<inertia ixx="0.001953125" ixy="0.0" ixz="0.0" iyy="0.001953125" iyz="0.0" izz="0.0007812499999999999"/>
			<origin xyz="2.0 7.0 0.0"/>
		</inertial>
	</link>
	<joint name = "joint61" type = "fixed">
		<parent link = "box0"/>
		<child link = "box61"/>
	</joint>
	<link name = "box62">
		<visual>
			<origin xyz="3.0 7.0 0.0"/>
			<geometry>
				<box size = "1 1 2"/>
			</geometry>
		</visual>
		<collision>
			<origin xyz="3.0 7.0 0.0"/>
			<geometry>
				<box size = "1 1 2"/>
			</geometry>
		</collision>
		<contact>
			<lateral_friction value = "0.3"/>
		</contact>
		<inertial>
			<mass value = "0.0046875"/>
			<inertia ixx="0.001953125" ixy="0.0" ixz="0.0" iyy="0.001953125" iyz="0.0" izz="0.0007812499999999999"/>
			<origin xyz="3.0 7.0 0.0"/>
		</inertial>
	</link>
	<joint name = "joint62" type = "fixed">
		<parent link = "box0"/>
		<child link = "box62"/>
	</joint>
	<link name = "box63">
		<visual>
			<origin xyz="4.0 7.0 0.0"/>
			<geometry>
				<box size = "1 1 2"/>
			</geometry>
		</visual>
		<collision>
			<origin xyz="4.0 7.0 0.0"/>
			<geometry>
				<box size = "1 1 2"/>
			</geometry>
		</collision>
		<contact>
			<lateral_friction value = "0.3"/>
		</contact>
		<inertial>
			<mass value = "0.0046875"/>
			<inertia ixx="0.001953125" ixy="0.0" ixz="0.0" iyy="0.001953125" iyz="0.0" izz="0.0007812499999999999"/>
			<origin xyz="4.0 7.0 0.0"/>
		</inertial>
	</link>
	<joint name = "joint63" type = "fixed">
		<parent link = "box0"/>
		<child link = "box63"/>
	</joint>
</robot>
